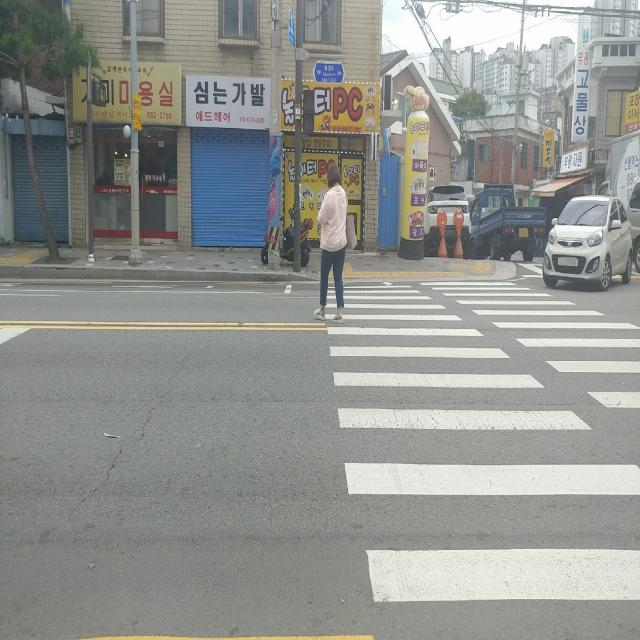횡단보도: (320, 282, 640, 604)
